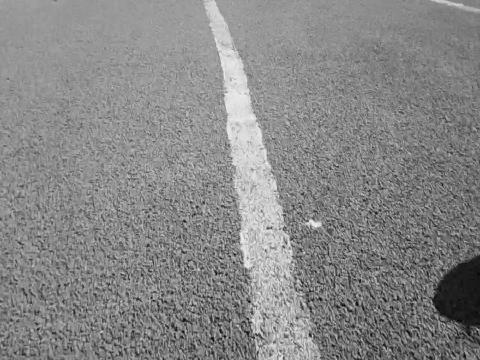Lines: (201, 0, 323, 360)
